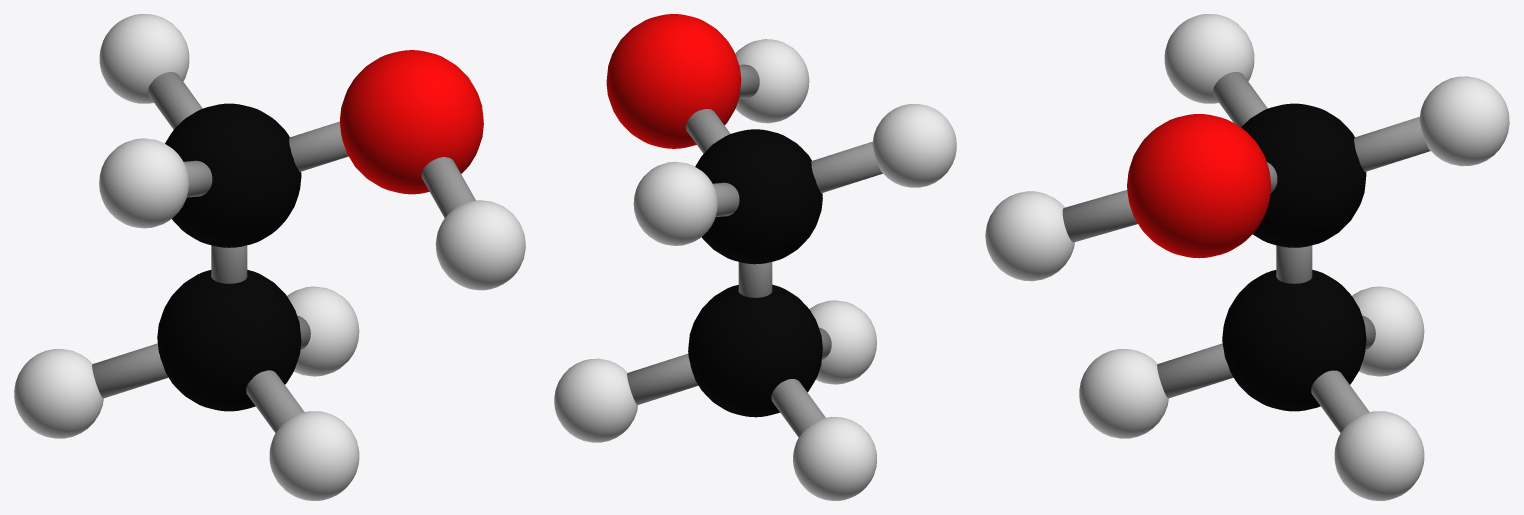
File: Ethanol.fbx
3 renders of one model, left to right at view 1: azimuth 30°, elevation 25°; view 2: azimuth 150°, elevation 25°; view 3: azimuth 270°, elevation 25°, orthographic. The views are drawn at different scales.
Parts seen in each view (by area): view 1: Ethanol; view 2: Ethanol; view 3: Ethanol.
Boxes of the visible parts, x1,y1,x2,y2 form: Ethanol: (14,14,525,500); Ethanol: (554,14,956,500); Ethanol: (985,14,1509,500).
Bounding box in the file's own units: 466 × 464 × 581.
